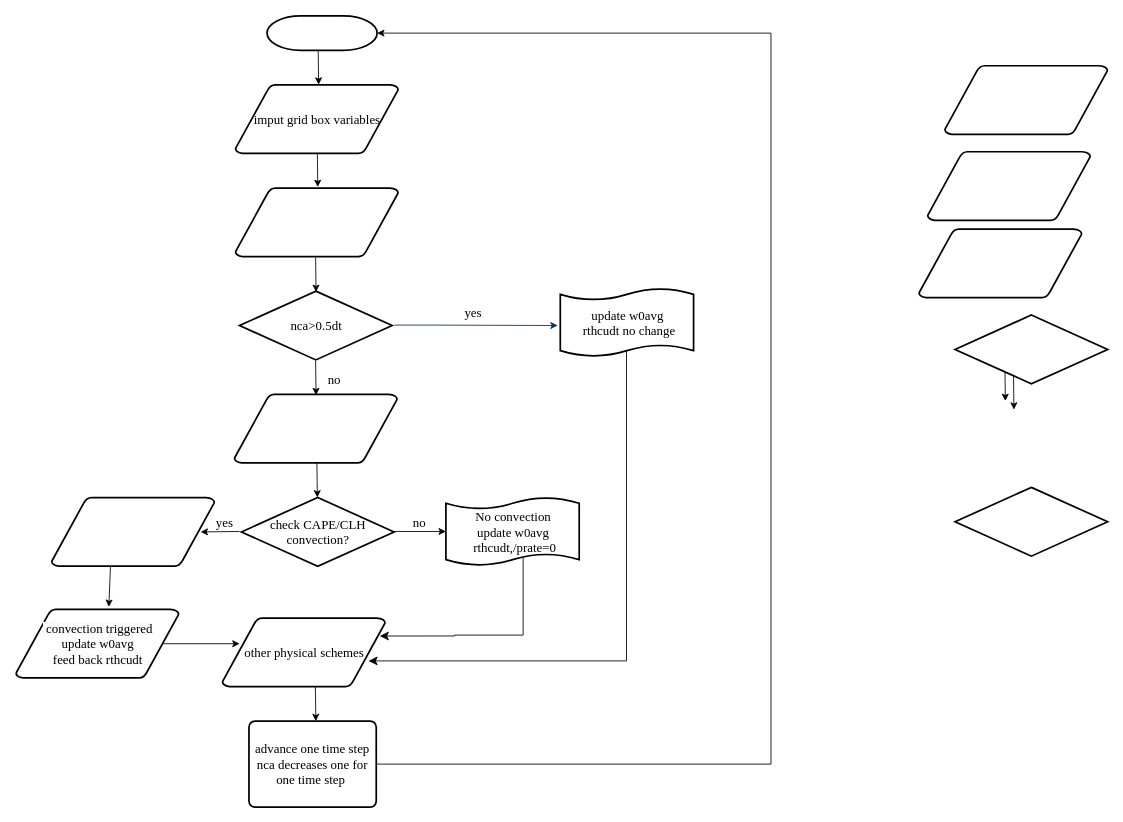
This 1123x822 diagram has some shape labels left out. The centre of each missing label's shape, as x and y in pixels:
1-D cloud model calculate cloud properties LCL/LET/CAPE: the point at 315,428
at time t: the point at 322,33
calculate nca,rthcudt,prate: the point at 132,531
check activation status: the point at 316,222
